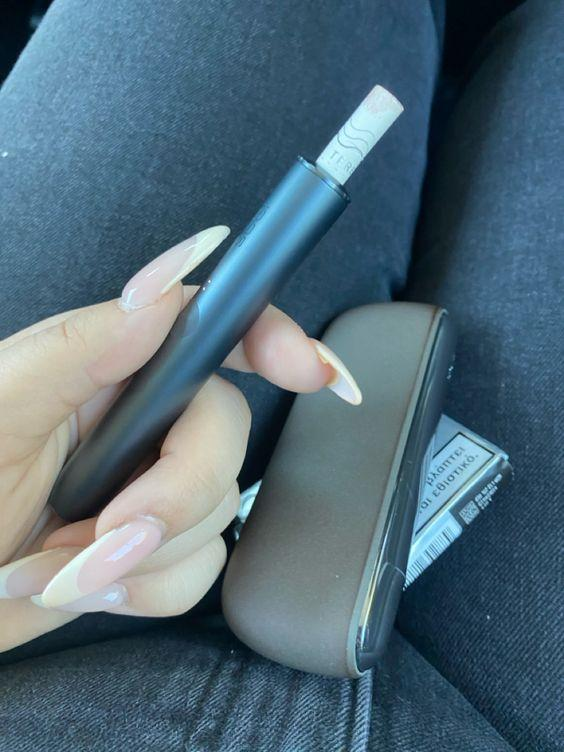iqos: (53, 86, 403, 518)
